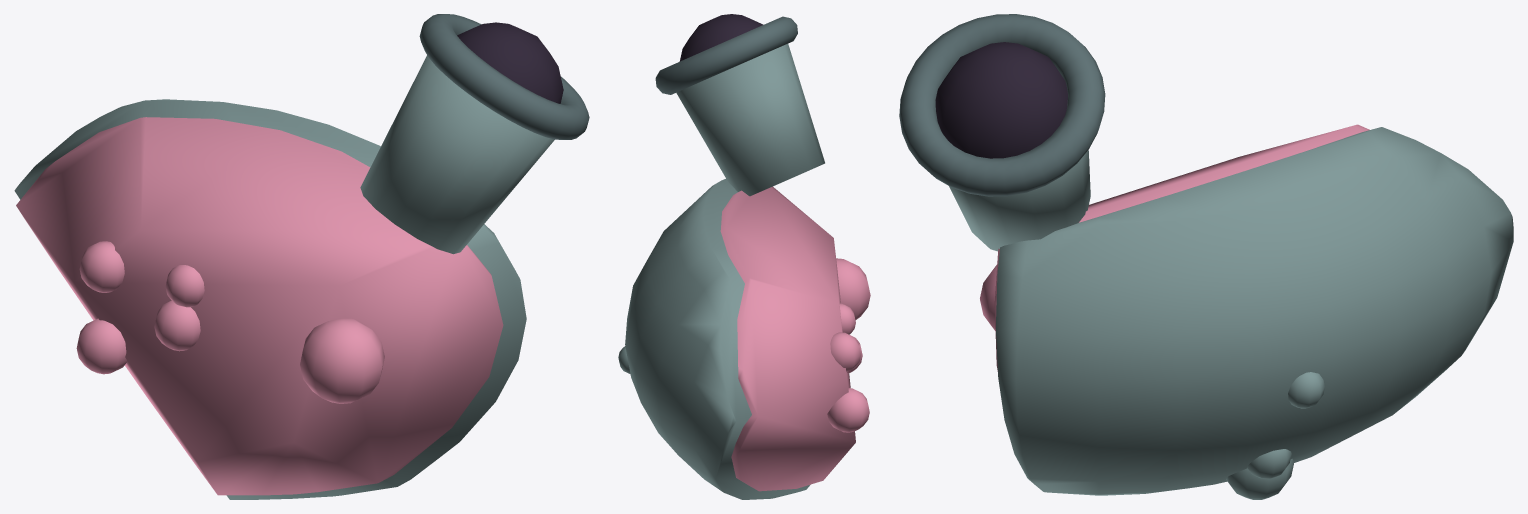
The model's file is chunk7.glb.
The picture shows the model from 3 angles, left to right: view 1: azimuth 30°, elevation 25°; view 2: azimuth 150°, elevation 25°; view 3: azimuth 270°, elevation 25°; orthographic projection. The views are drawn at different scales.
Parts seen in each view (by area): view 1: flesh, skin, lip, mouth; view 2: skin, flesh, lip, mouth; view 3: skin, lip, mouth, flesh.
Part boxes in pixels (<box>): flesh: <box>16,117,503,495</box>; skin: <box>14,55,554,499</box>; lip: <box>419,14,589,139</box>; mouth: <box>457,22,563,103</box>; skin: <box>618,43,824,499</box>; flesh: <box>720,186,870,491</box>; lip: <box>655,16,797,94</box>; mouth: <box>679,14,763,61</box>; skin: <box>949,127,1513,499</box>; lip: <box>899,14,1105,196</box>; mouth: <box>935,42,1067,158</box>; flesh: <box>980,124,1369,371</box>.
Bounding box in the file's own units: 1.08 × 1.38 × 1.45.
